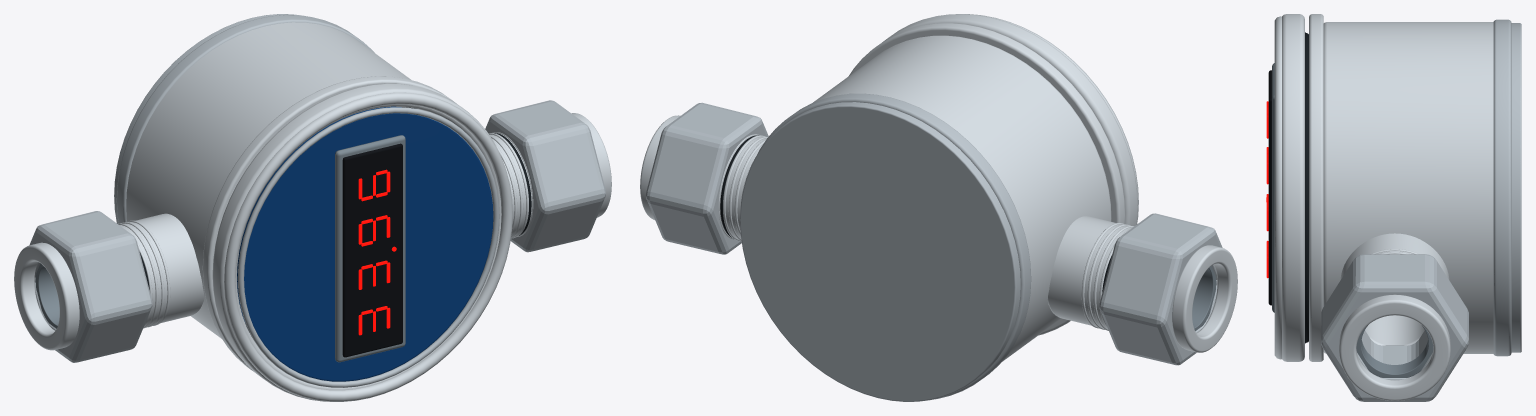
Rendered from masar-device.glb.
3 views of the same model, side by side, from view 1: azimuth 30°, elevation 25°; view 2: azimuth 150°, elevation 25°; view 3: azimuth 270°, elevation 25° (orthographic). The views are drawn at different scales.
Parts seen in each view (by area): view 1: Housing - Polished stainless steel, Display - Reference blue enamel, Housing - Brushed steel union nuts, Display - Polished stainless steel, Display - Black display lens, Display - Brushed steel union nuts, Display - Machined dark steel, Display - Red seven segment LED, Housing - Machined dark steel; view 2: Housing - Brushed steel union nuts, Housing - Polished stainless steel, Display - Polished stainless steel, Housing - Machined dark steel; view 3: Housing - Polished stainless steel, Housing - Brushed steel union nuts, Display - Polished stainless steel, Housing - Machined dark steel, Seal - Black elastomer seals, Display - Black display lens, Display - Machined dark steel, Display - Red seven segment LED.
Part boxes in pixels (<box>): Housing - Polished stainless steel: <box>14,22,611,371</box>; Display - Reference blue enamel: <box>237,106,493,381</box>; Housing - Brushed steel union nuts: <box>29,14,605,362</box>; Display - Polished stainless steel: <box>212,83,512,401</box>; Display - Black display lens: <box>342,143,402,357</box>; Display - Brushed steel union nuts: <box>237,107,499,387</box>; Display - Machined dark steel: <box>335,135,405,362</box>; Display - Red seven segment LED: <box>358,169,396,335</box>; Housing - Machined dark steel: <box>35,263,59,328</box>; Housing - Brushed steel union nuts: <box>646,93,1222,401</box>; Housing - Polished stainless steel: <box>640,23,1237,361</box>; Display - Polished stainless steel: <box>882,14,1138,226</box>; Housing - Machined dark steel: <box>1192,266,1216,331</box>; Housing - Polished stainless steel: <box>1309,14,1493,400</box>; Housing - Brushed steel union nuts: <box>1321,19,1521,401</box>; Display - Polished stainless steel: <box>1274,14,1304,361</box>; Housing - Machined dark steel: <box>1356,325,1433,377</box>; Seal - Black elastomer seals: <box>1305,32,1308,343</box>; Display - Black display lens: <box>1268,70,1271,305</box>; Display - Machined dark steel: <box>1272,63,1274,312</box>; Display - Red seven segment LED: <box>1266,101,1268,278</box>.
Size of the model in its own units: 5.73 by 3.06 by 2.25.
